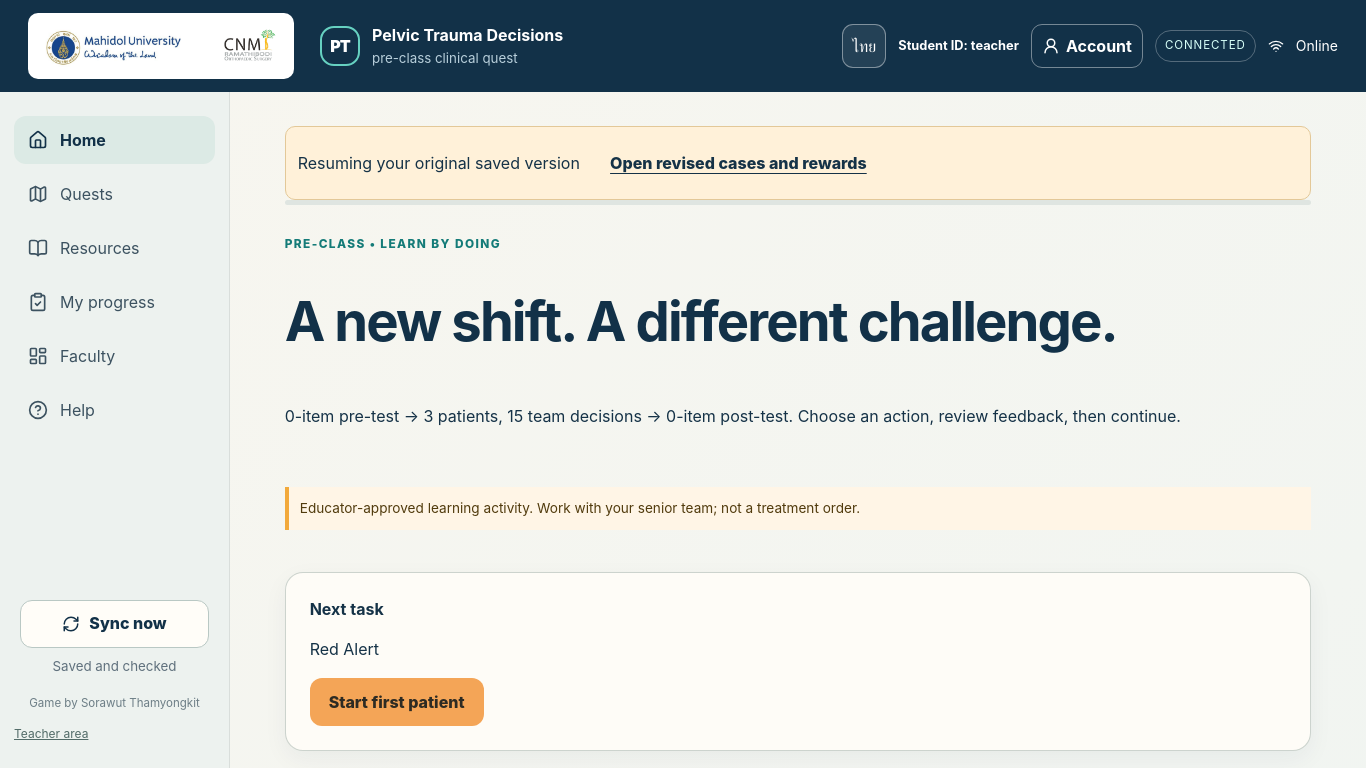
Test: authenticated account lifecycle › retains staff state when the service rejects sign-out without an auth change
Expected: the link "Teacher area" is shown, [14,726,88,741]
Click the heading "Account" at (1087, 46), box [1031,24,1143,68]
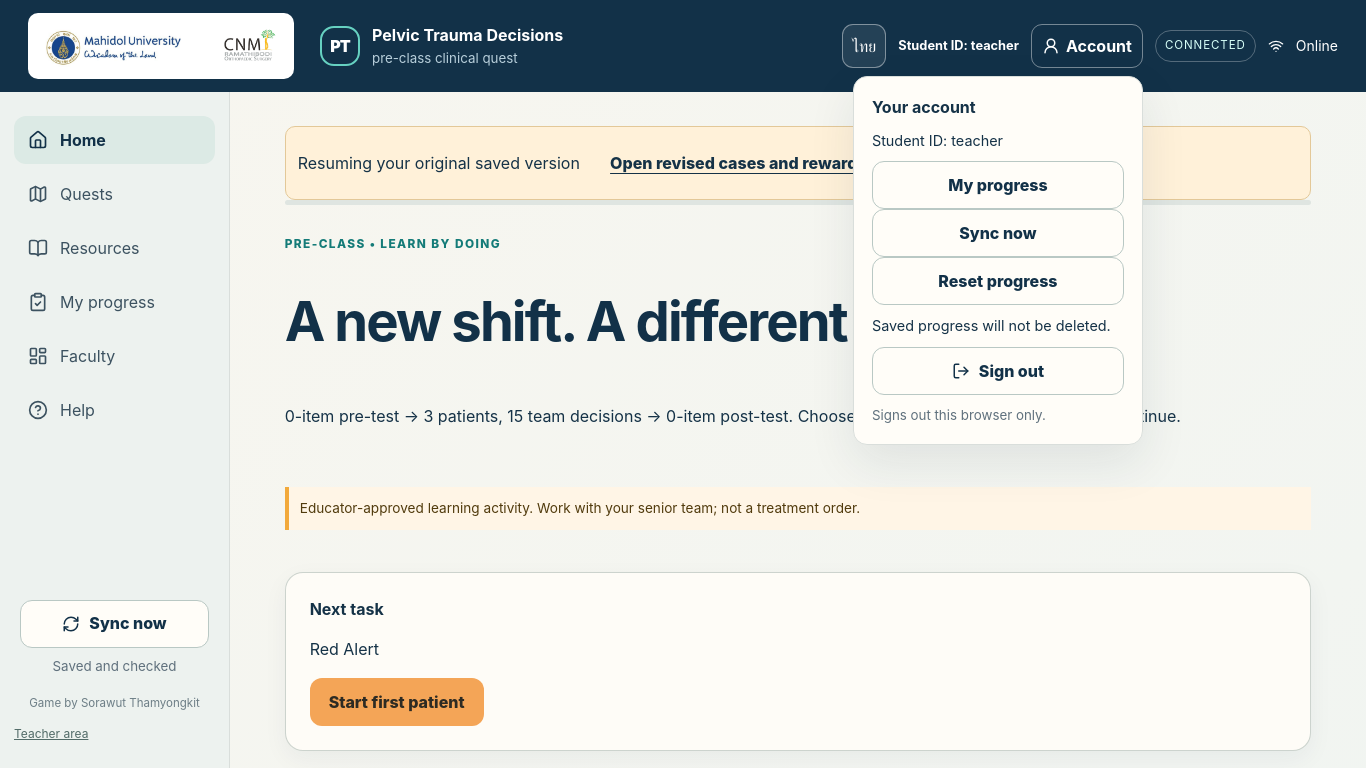
Click the button "Sign out" at (998, 371), box [872,347,1124,395]
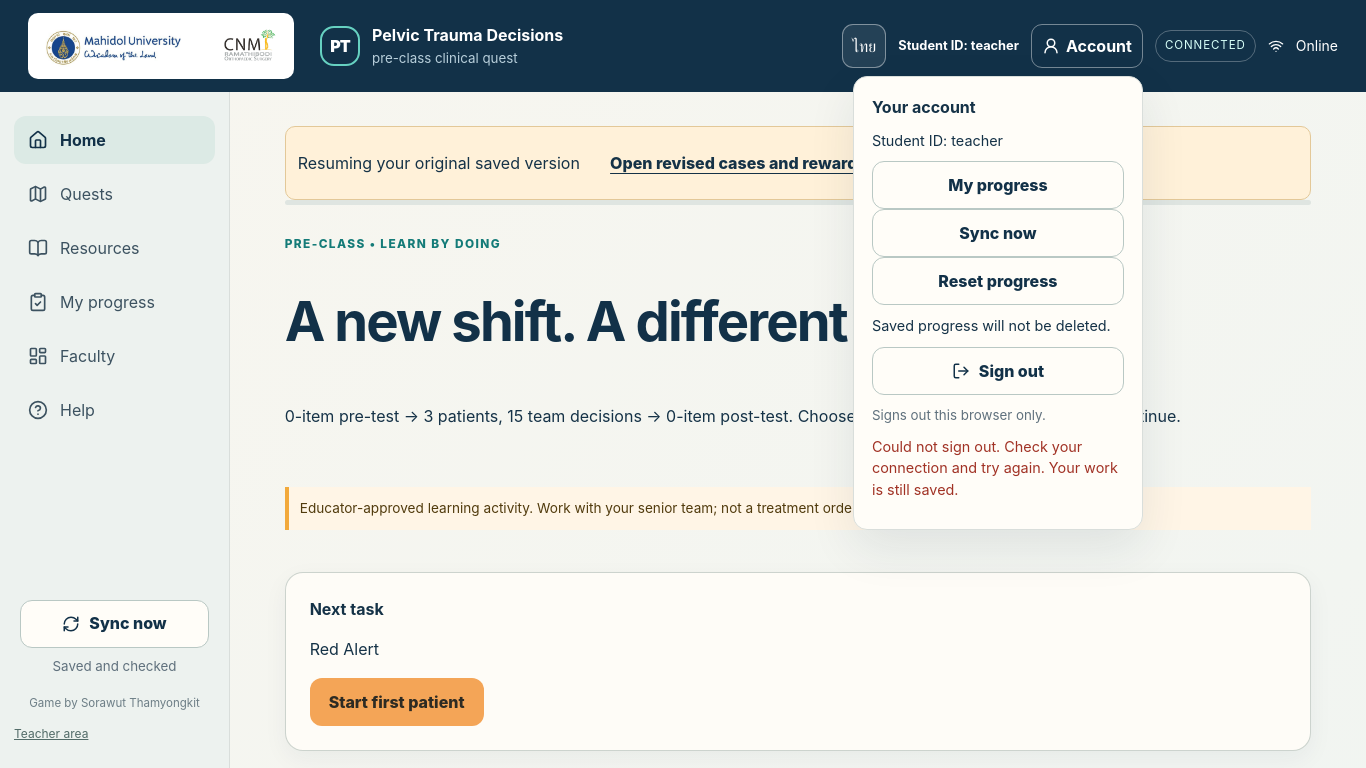
Expected: the link "Teacher area" is shown, [14,726,88,741]
Expected: the message shows "Could not sign out", [872,438,1118,498]
